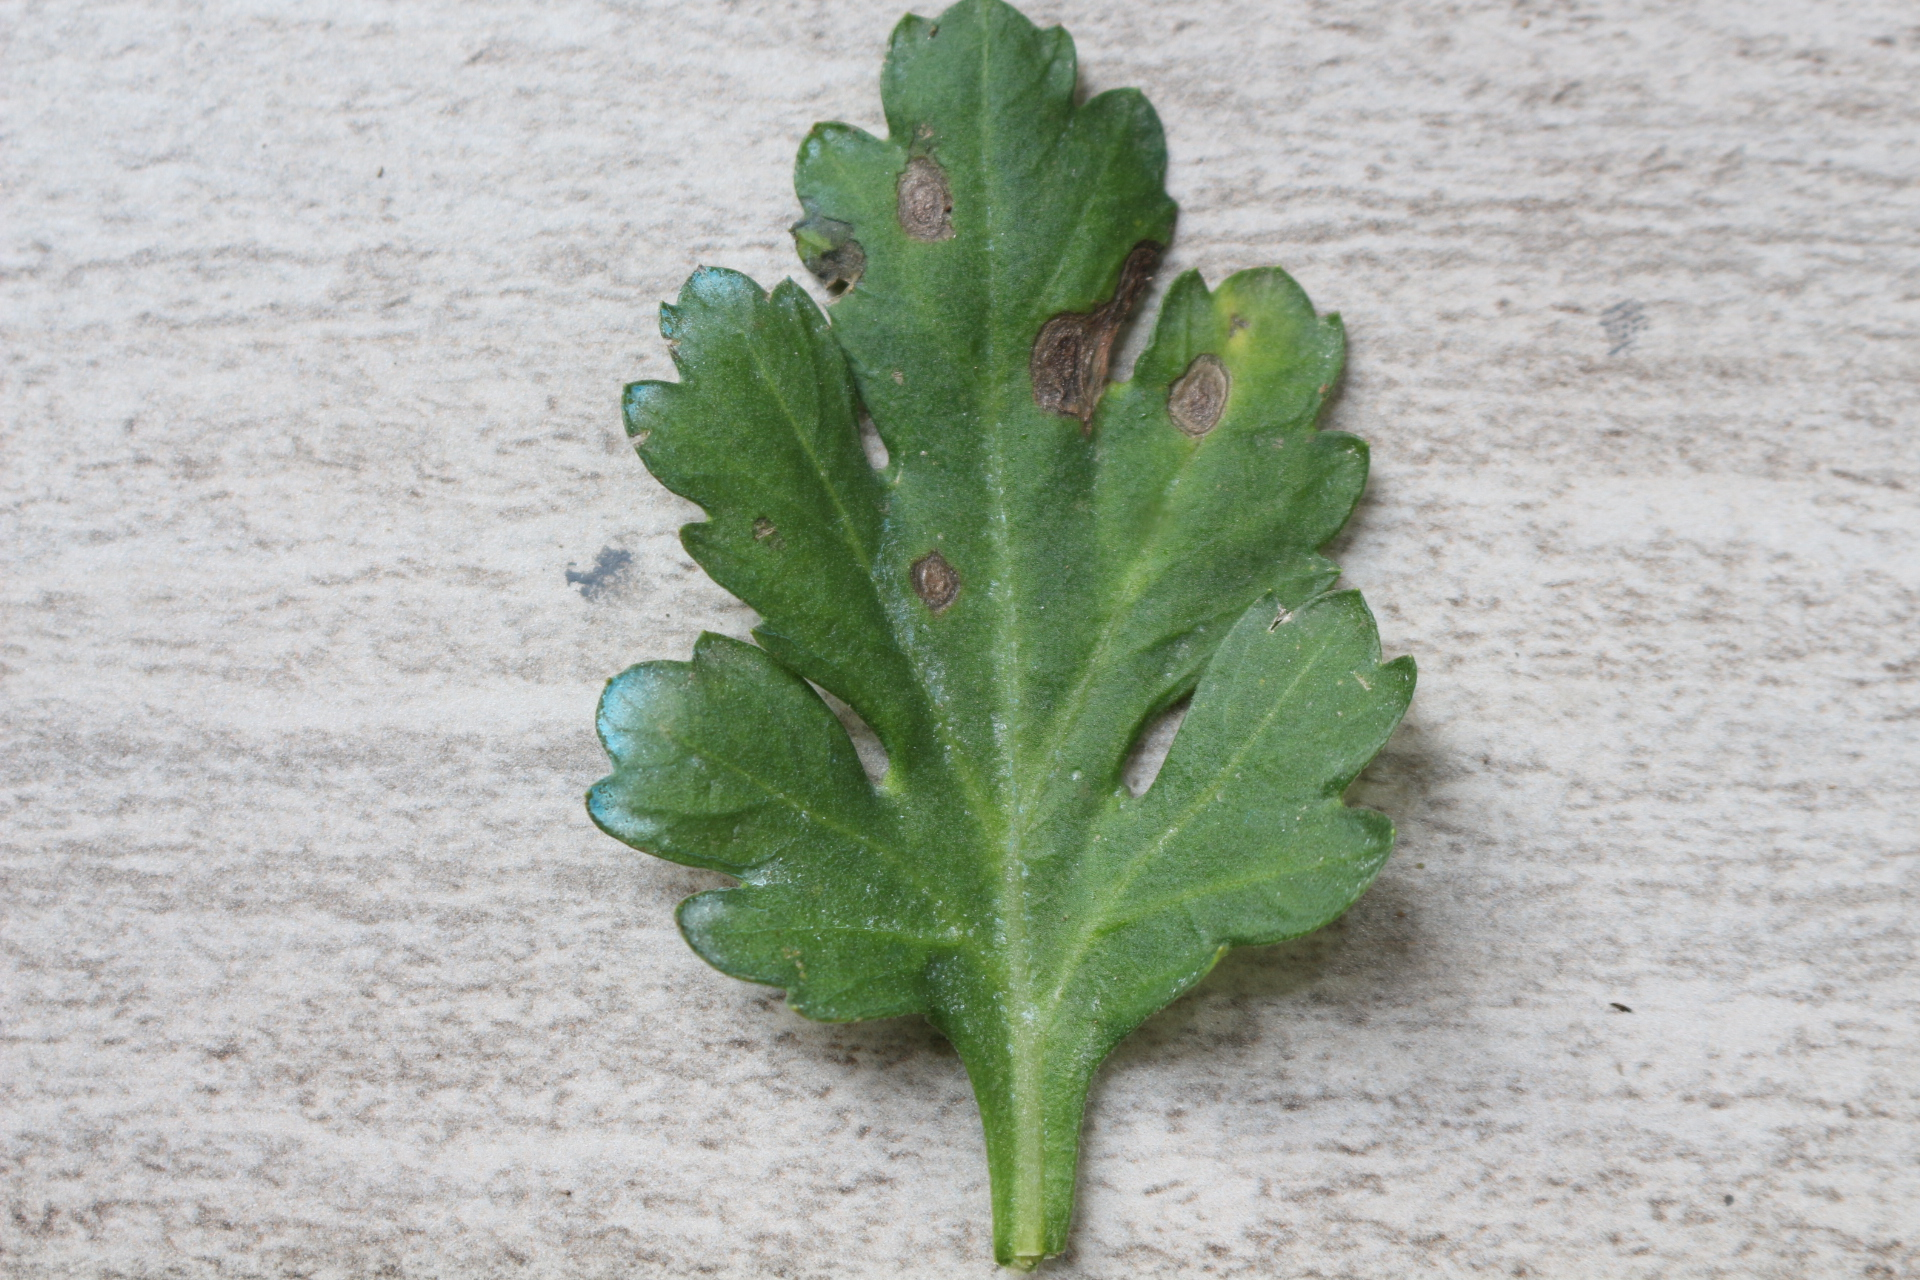namden: (879, 149, 964, 244), (1166, 354, 1236, 444), (904, 549, 964, 617)
